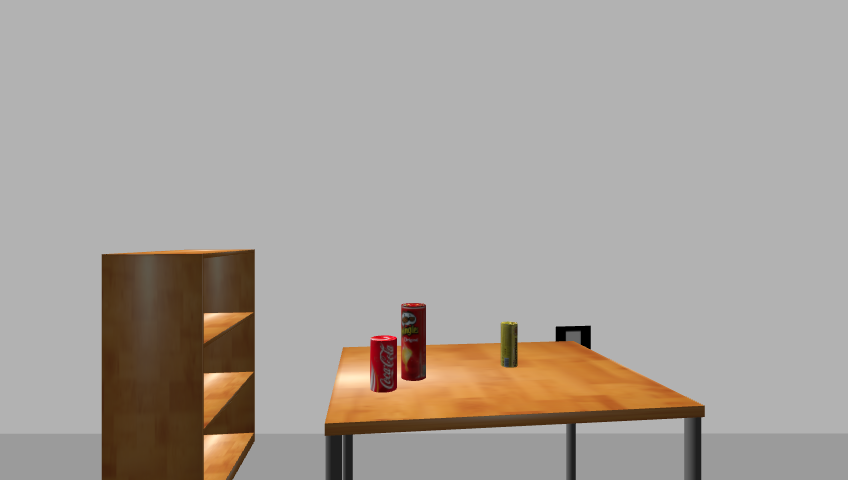aruco marker: (553, 324, 596, 356)
biscuits pack: (500, 321, 520, 369)
bookshelf: (96, 247, 263, 480)
coke can: (369, 336, 398, 393)
dinner table: (318, 339, 713, 480)
pringles can: (399, 302, 428, 383)
